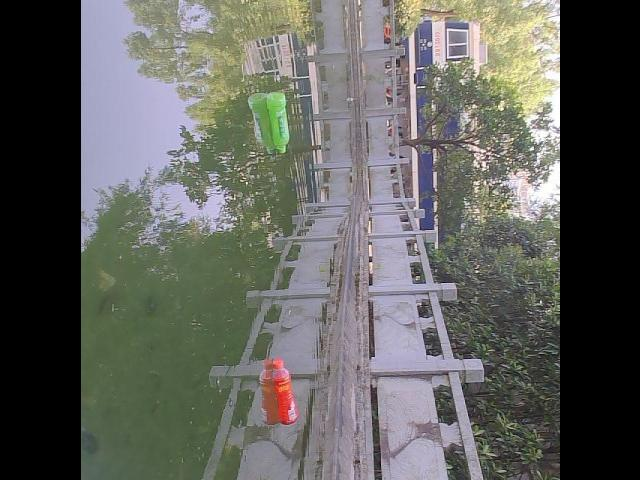Bottle: (260, 354, 303, 432), (258, 85, 294, 159)
